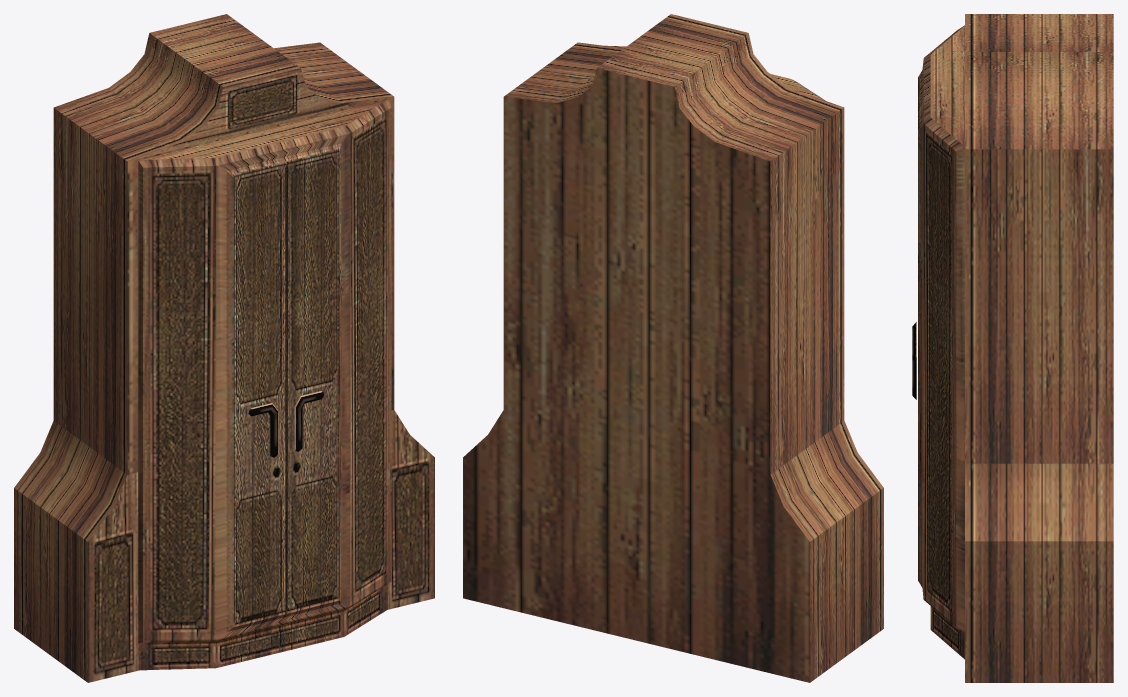
File: frn_all_eleg_armoire_s02_l0.fbx
The picture shows the model from 3 angles, left to right: view 1: azimuth 30°, elevation 25°; view 2: azimuth 150°, elevation 25°; view 3: azimuth 270°, elevation 25°; orthographic projection.
Parts seen in each view (by area): view 1: mesh_node; view 2: mesh_node; view 3: mesh_node.
Boxes of the visible parts, x1,y1,x2,y2 form: mesh_node: [14, 14, 434, 682]; mesh_node: [463, 14, 883, 682]; mesh_node: [912, 14, 1113, 682].
Size of the model in its own units: 1.16 by 1.8 by 0.5808.
